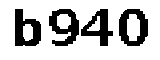0: (116, 6, 152, 50)
4: (82, 6, 116, 50)
9: (45, 6, 80, 48)
b: (6, 6, 43, 52)
